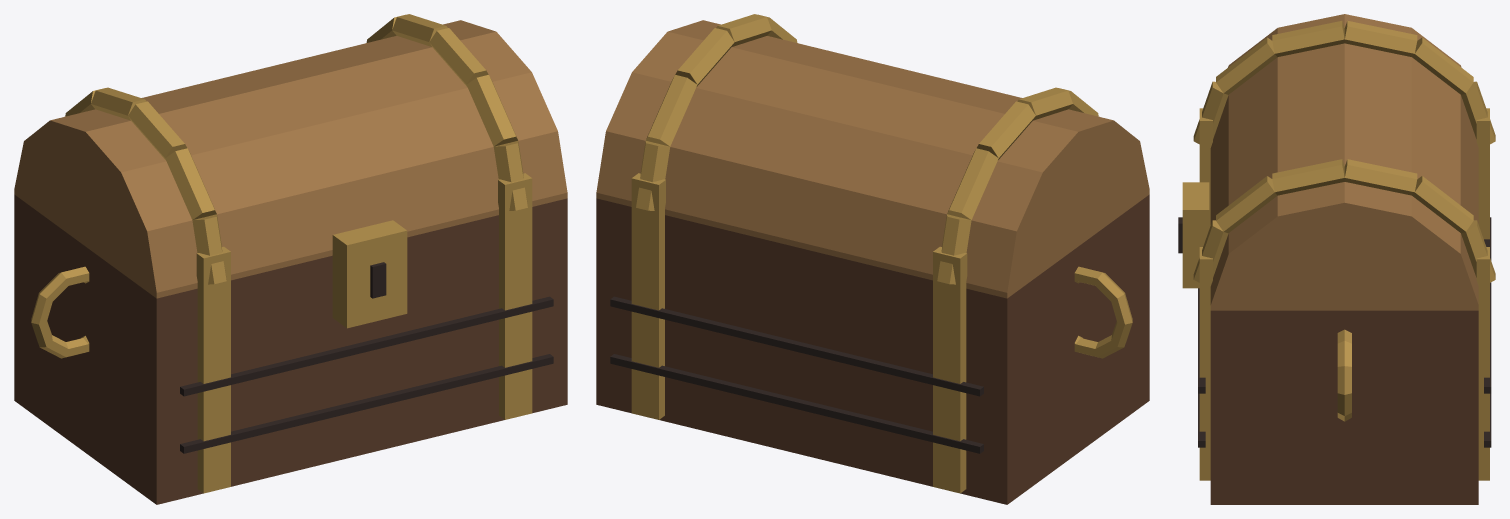
The model's file is PirateCove_TreasureChest_Standard.glb.
The picture shows the model from 3 angles, left to right: view 1: azimuth 30°, elevation 25°; view 2: azimuth 150°, elevation 25°; view 3: azimuth 270°, elevation 25°; orthographic projection. The views are drawn at different scales.
Visible parts, largest first — view 1: PirateCove_TreasureChest_Standard; view 2: PirateCove_TreasureChest_Standard; view 3: PirateCove_TreasureChest_Standard.
Boxes of the visible parts, x1,y1,x2,y2 form: PirateCove_TreasureChest_Standard: (14,14,567,504); PirateCove_TreasureChest_Standard: (596,14,1149,504); PirateCove_TreasureChest_Standard: (1178,14,1495,504).
Bounding box in the file's own units: 1.9 × 1.18 × 1.07.
